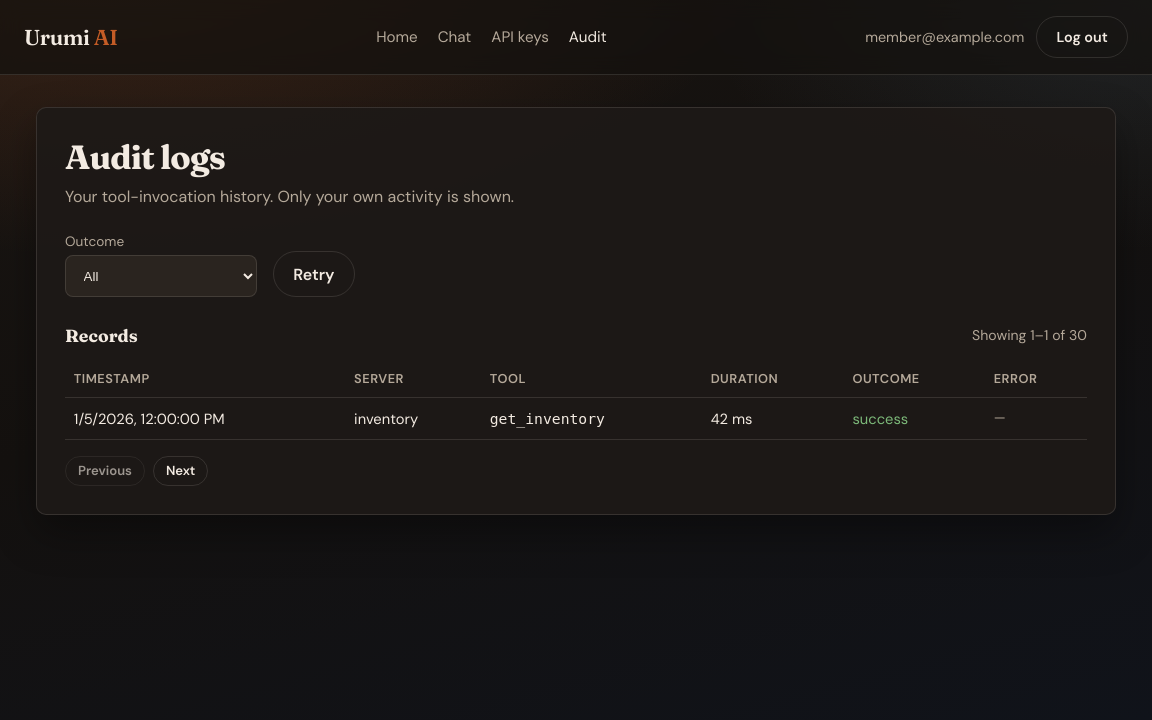
audit log viewer › sends outcome filter and pagination parameters
The width and height of the screenshot is (1152, 720).
Expected: the text "get_inventory" is shown, x1=490 y1=410 x2=605 y2=426
Select "error" in the dropdown labelled "Outcome" at (161, 276), box x1=65 y1=255 x2=257 y2=297
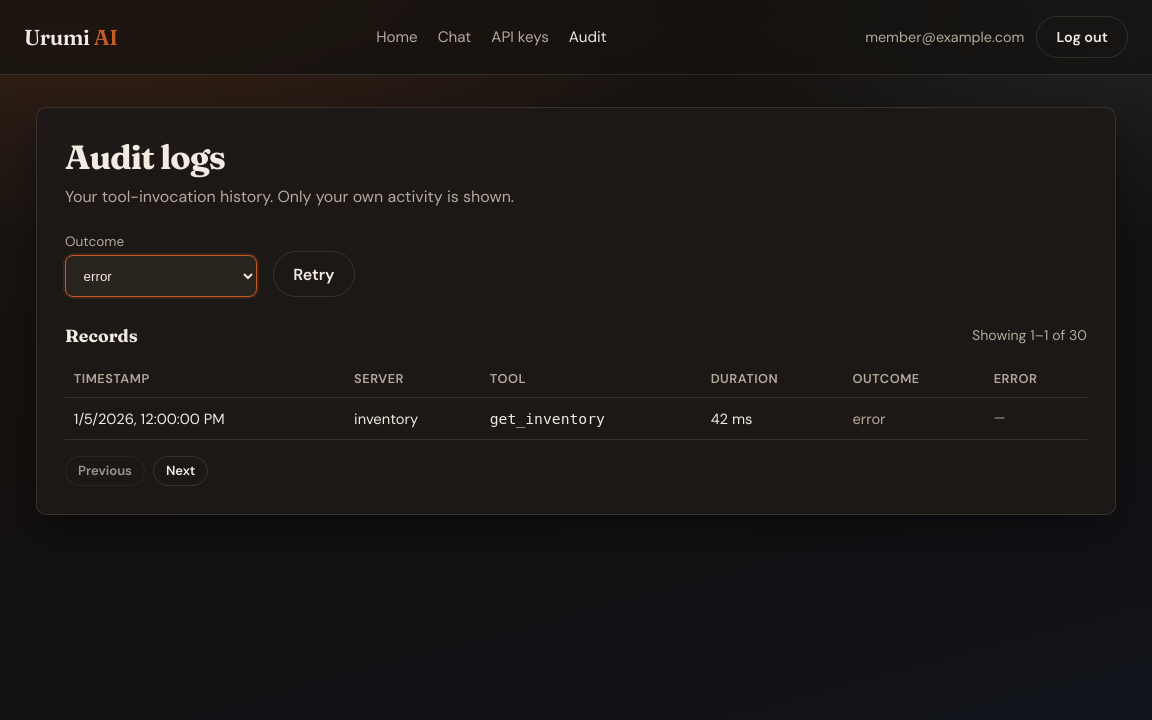
Expected: the text "get_inventory" is shown, x1=490 y1=410 x2=605 y2=426
Expected: the text "Showing 1–1 of 30" is shown, x1=972 y1=326 x2=1087 y2=344
Click the button "Next" at (181, 471), box x1=153 y1=456 x2=208 y2=486
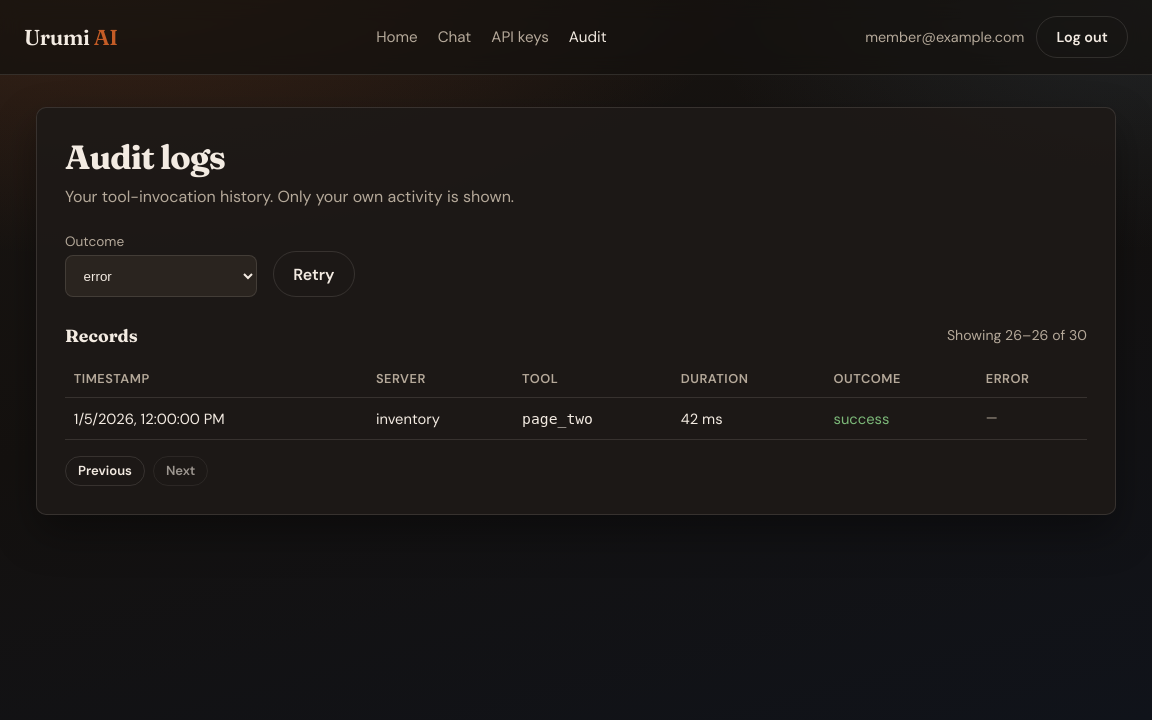
Result: the text "page_two" is shown at x1=522 y1=410 x2=593 y2=426
